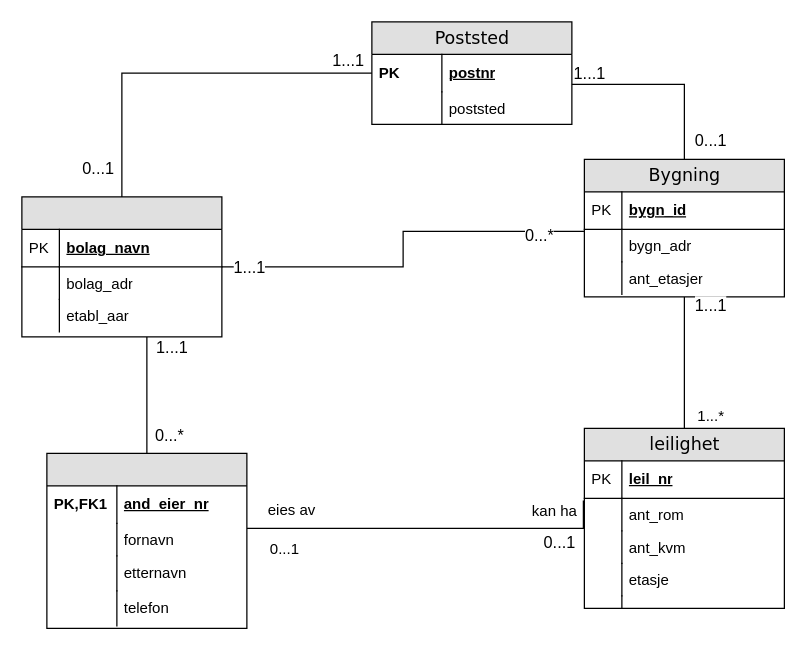
The diagram is 806 pixels wide and 651 high, and some of its shapes have lost their labels. Here are the shapes that lost their labels. From the top down, the box of each, then its label:
(21, 196, 222, 337): Borettslag
(46, 452, 247, 628): Andelseier
